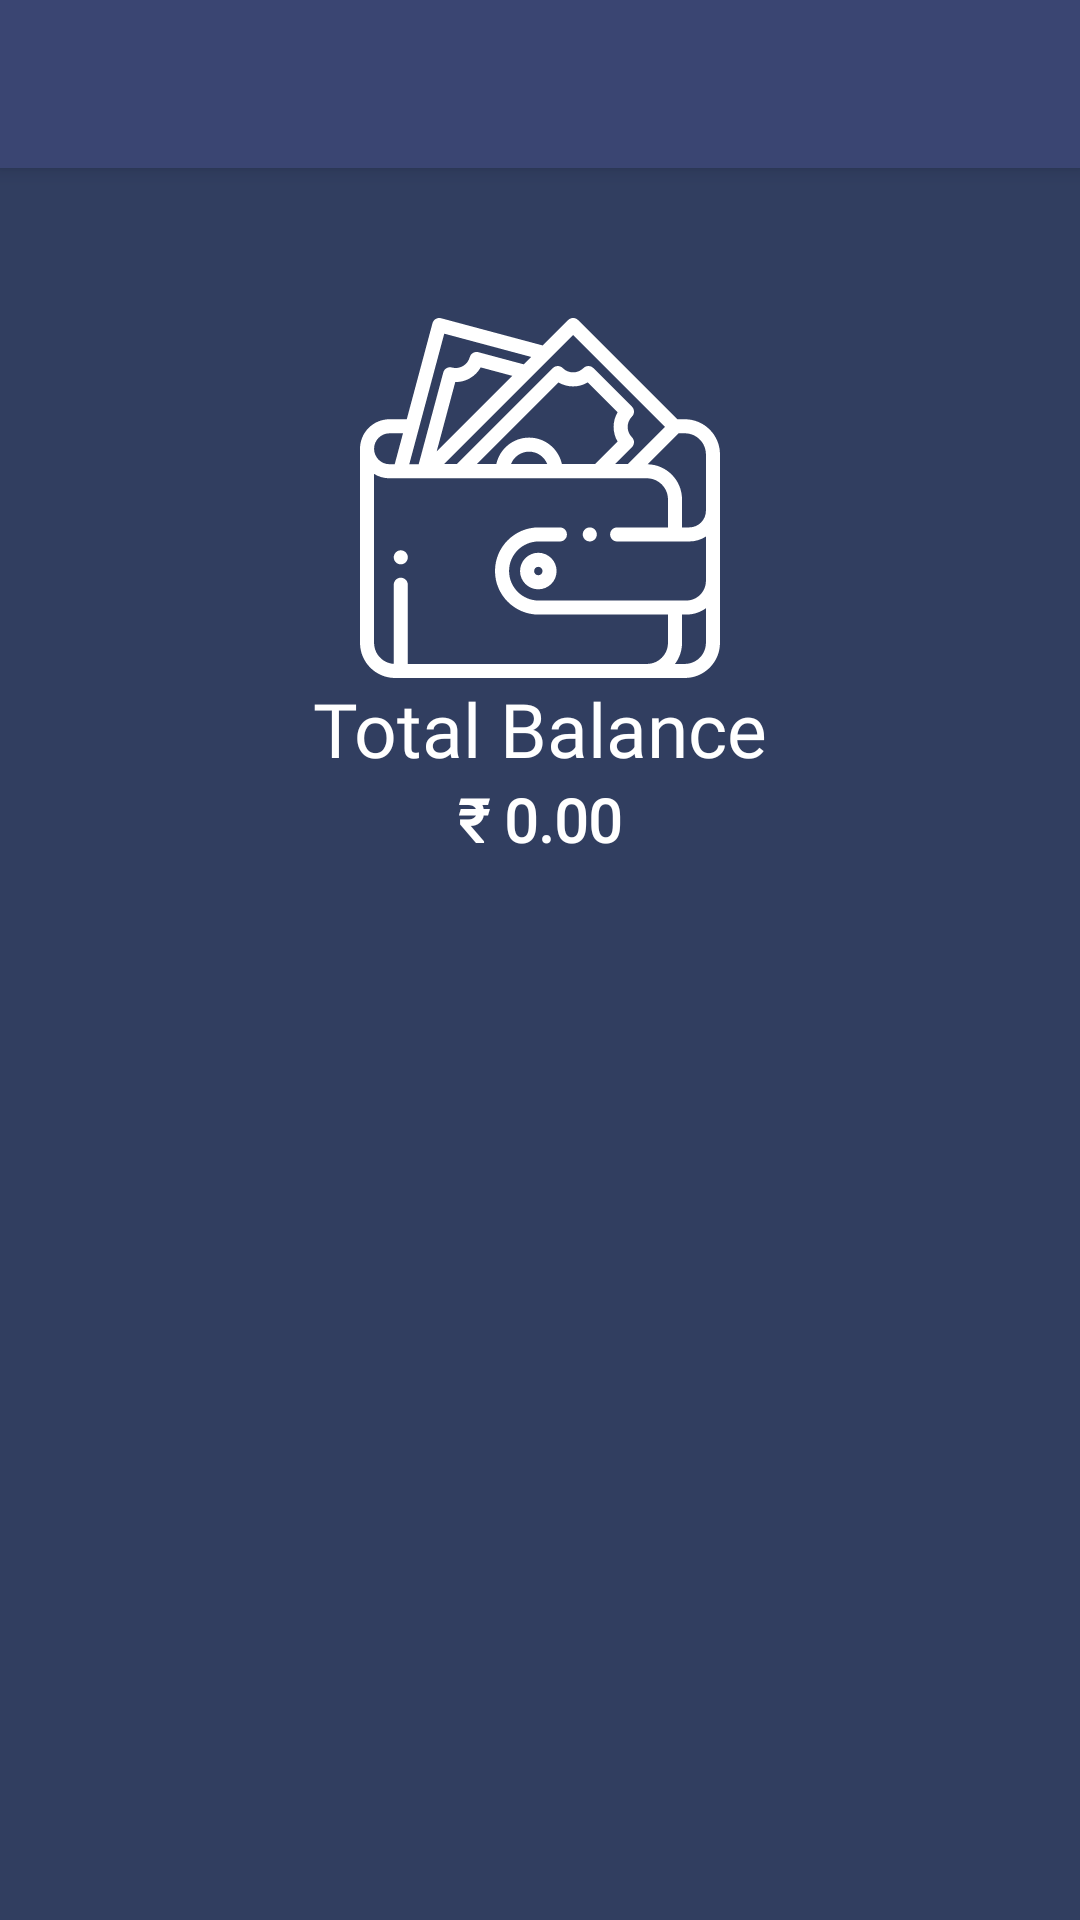

Icons on this 1080 × 1920 Android screen, each with the point to tap as (x,y):
wallet: (540,498)
